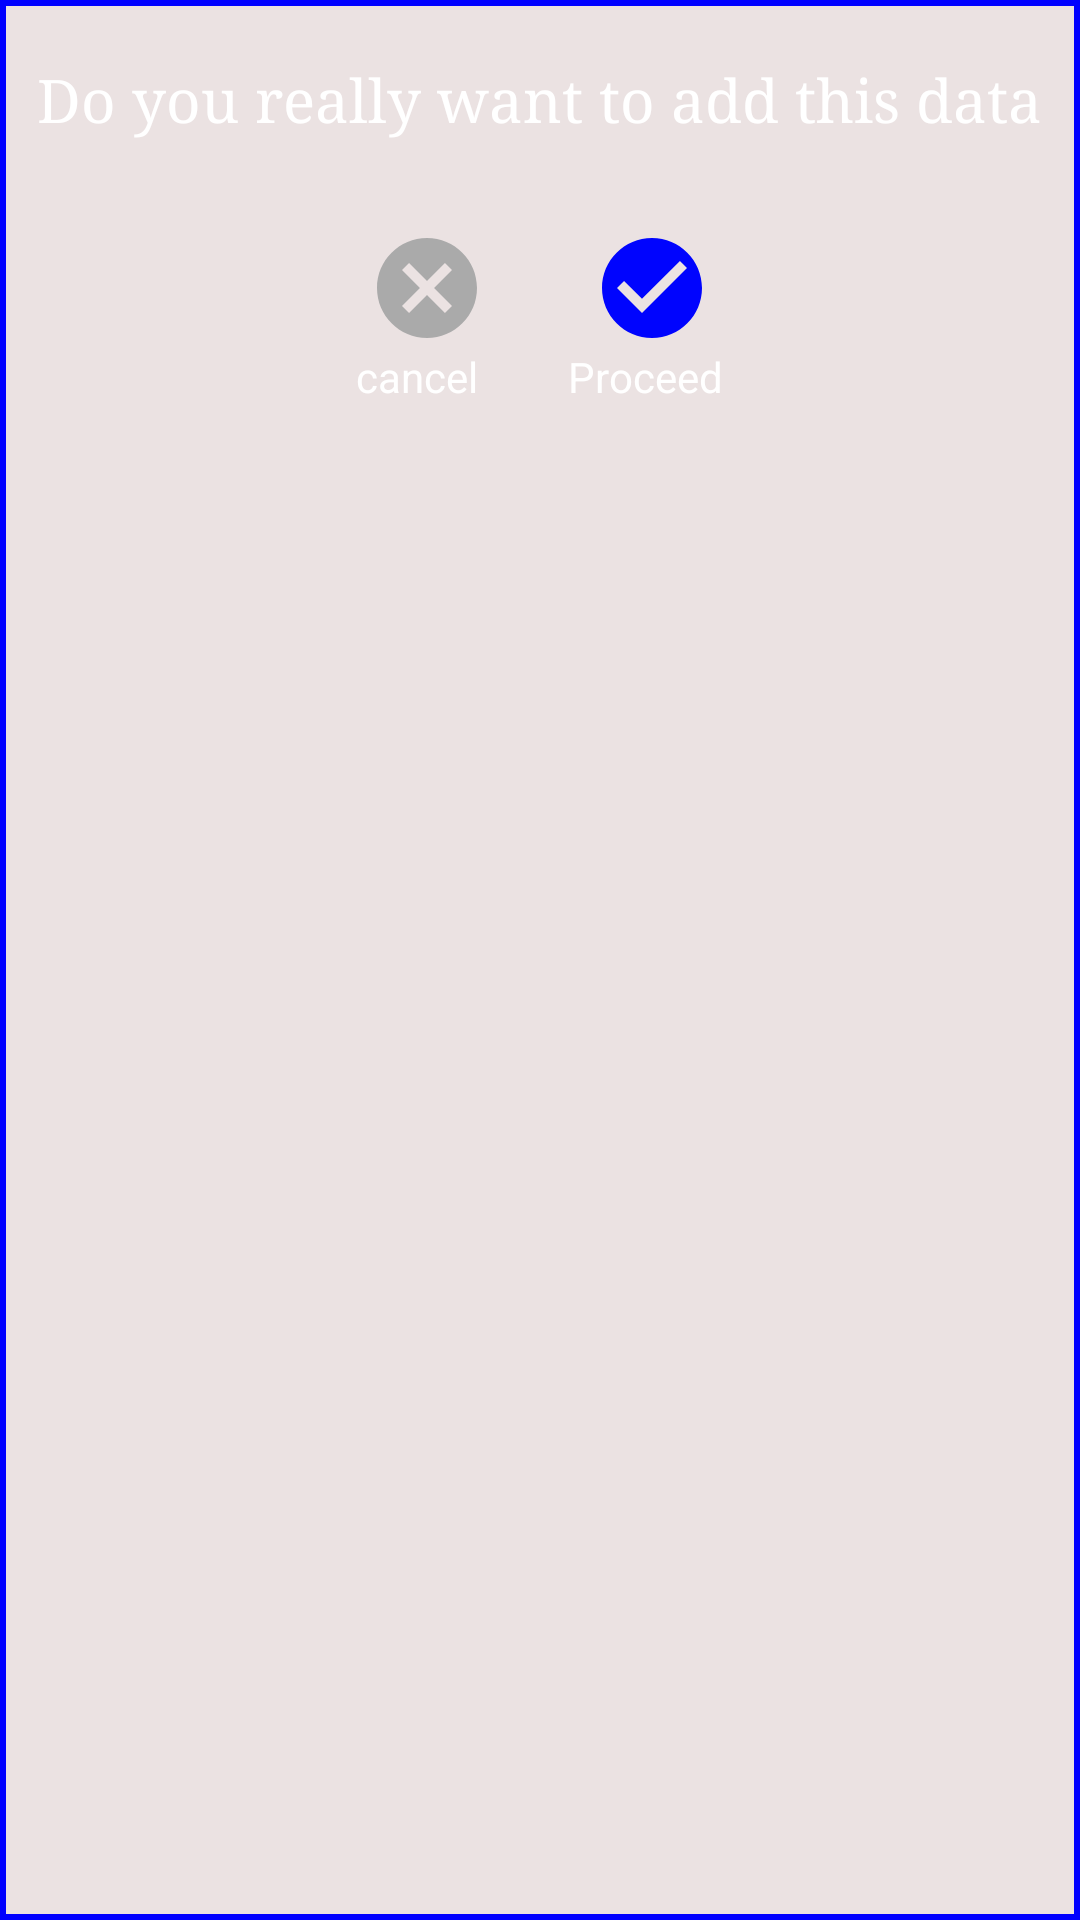

Named icons in this screenshot (1080 × 1920) and their centers, point (x, y):
check circle: point (652, 288)
